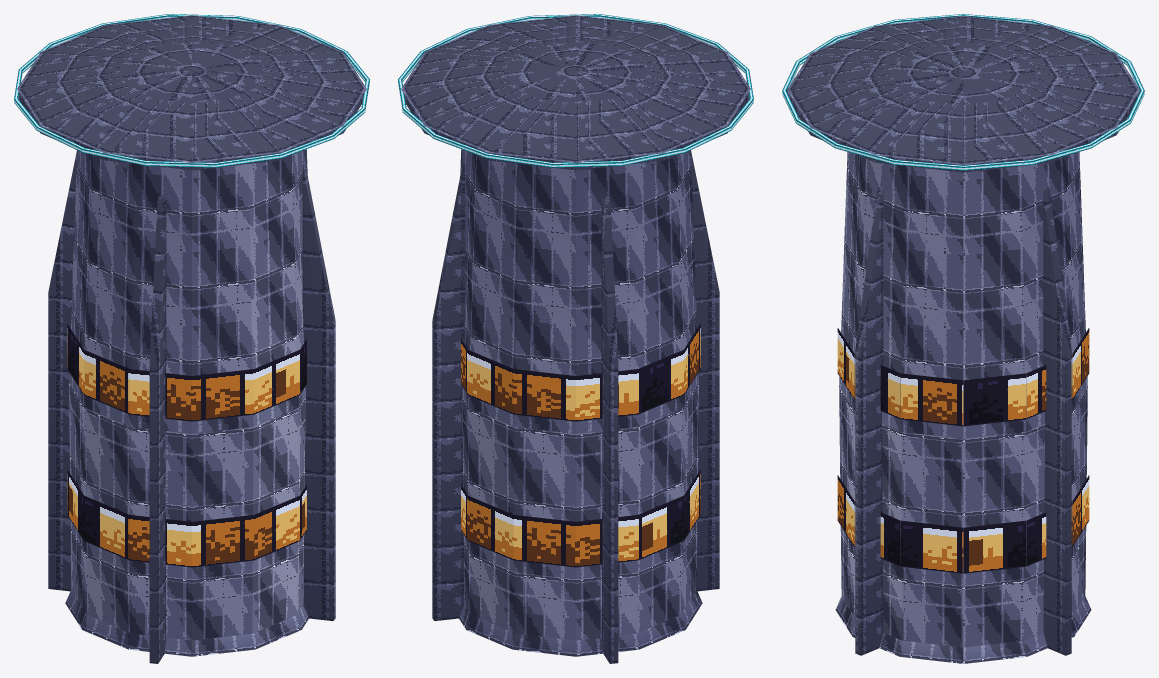
File: cytower.drum.glb
3 views of the same model, side by side, from view 1: azimuth 30°, elevation 25°; view 2: azimuth 150°, elevation 25°; view 3: azimuth 270°, elevation 25° (orthographic).
Visible parts, largest first — view 1: kit_tower, kit_card_windows, kit_crown; view 2: kit_tower, kit_card_windows, kit_crown; view 3: kit_tower, kit_card_windows, kit_crown.
Part boxes in pixels (box(x1,y1,x2,y2)): kit_tower: box(17, 15, 366, 663); kit_card_windows: box(67, 324, 306, 567); kit_crown: box(14, 14, 369, 167); kit_tower: box(401, 15, 750, 663); kit_card_windows: box(461, 324, 700, 567); kit_crown: box(398, 14, 753, 167); kit_tower: box(786, 16, 1140, 663); kit_card_windows: box(837, 328, 1089, 573); kit_crown: box(782, 14, 1144, 170).
Bounding box in the file's own units: 17.84 × 29.2 × 17.84.
Materials: 4 (4 with a texture image).
